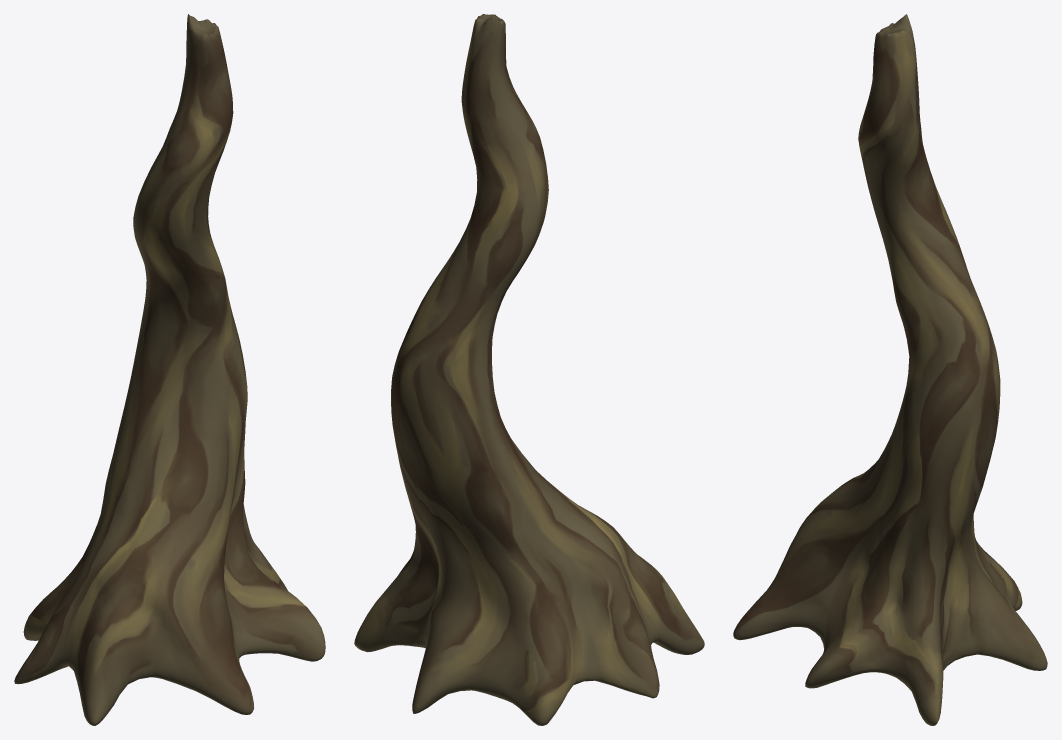
The model's file is SwampTreeBend.fbx.
3 renders of one model, left to right at view 1: azimuth 30°, elevation 25°; view 2: azimuth 150°, elevation 25°; view 3: azimuth 270°, elevation 25°, orthographic.
Visible parts, largest first — view 1: SwampTreeBend; view 2: SwampTreeBend; view 3: SwampTreeBend.
Boxes of the visible parts, x1=… form: SwampTreeBend: x1=14, y1=14, x2=325, y2=725; SwampTreeBend: x1=354, y1=14, x2=704, y2=725; SwampTreeBend: x1=733, y1=14, x2=1047, y2=725.
Size of the model in its own units: 555 by 1186 by 515.
1 material, 1 textured.
